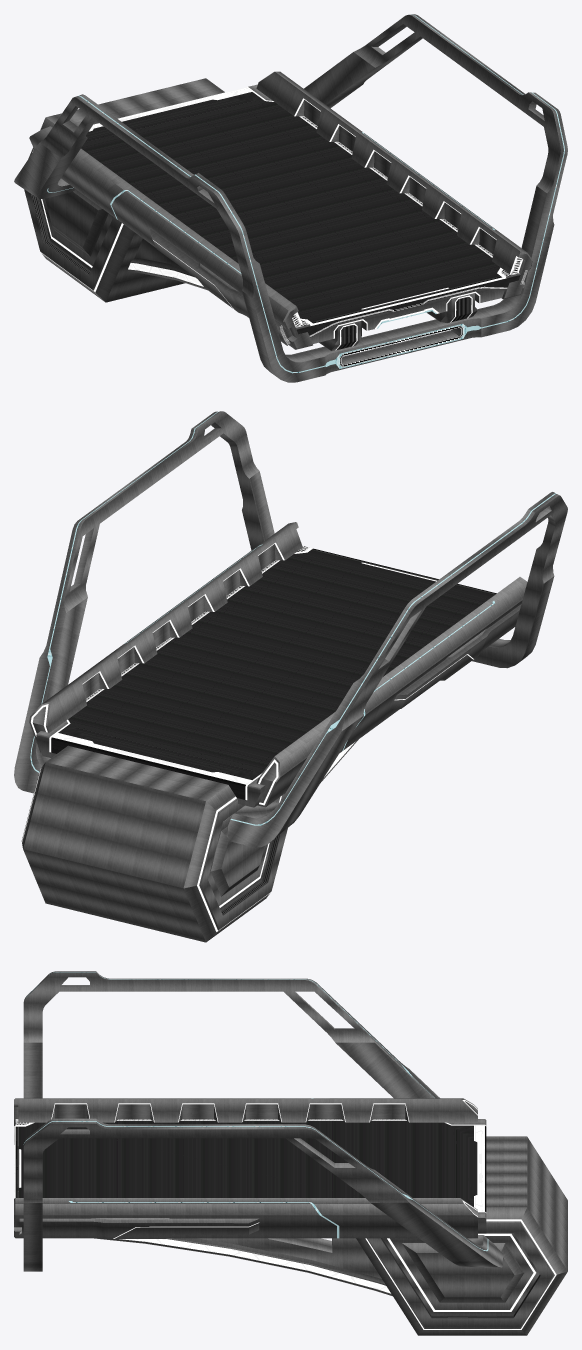
The model's file is propBridge.glb.
The picture shows the model from 3 angles, top to bottom: view 1: azimuth 30°, elevation 25°; view 2: azimuth 150°, elevation 25°; view 3: azimuth 270°, elevation 25°; orthographic projection. The views are drawn at different scales.
Parts seen in each view (by area): view 1: PF_Road_Bridge_Moveable.001_M_Hexagon_Ground_01_0, propBridge, PF_Road_Bridge_Moveable.001_M_Base_Grey.020_0, PF_Road_Bridge_Moveable.001_M_TrimSheet_Generic_V1.022_0, PF_Road_Bridge_Moveable.001_M_Emissive_Engineering.017_0; view 2: propBridge, PF_Road_Bridge_Moveable.001_M_Hexagon_Ground_01_0, PF_Road_Bridge_Moveable.001_M_Base_Grey.020_0, PF_Road_Bridge_Moveable.001_M_TrimSheet_Generic_V1.022_0, PF_Road_Bridge_Moveable.001_M_Emissive_Engineering.017_0; view 3: propBridge, PF_Road_Bridge_Moveable.001_M_Hexagon_Ground_01_0, PF_Road_Bridge_Moveable.001_M_Base_Grey.020_0, PF_Road_Bridge_Moveable.001_M_TrimSheet_Generic_V1.022_0, PF_Road_Bridge_Moveable.001_M_Emissive_Engineering.017_0.
Boxes of the visible parts, x1,y1,x2,y2 form: PF_Road_Bridge_Moveable.001_M_Hexagon_Ground_01_0: (81, 92, 520, 335); propBridge: (14, 14, 567, 382); PF_Road_Bridge_Moveable.001_M_Base_Grey.020_0: (24, 71, 531, 351); PF_Road_Bridge_Moveable.001_M_TrimSheet_Generic_V1.022_0: (31, 87, 527, 367); PF_Road_Bridge_Moveable.001_M_Emissive_Engineering.017_0: (47, 14, 564, 373); propBridge: (14, 411, 567, 942); PF_Road_Bridge_Moveable.001_M_Hexagon_Ground_01_0: (49, 550, 494, 800); PF_Road_Bridge_Moveable.001_M_Base_Grey.020_0: (21, 522, 522, 930); PF_Road_Bridge_Moveable.001_M_TrimSheet_Generic_V1.022_0: (22, 542, 496, 931); PF_Road_Bridge_Moveable.001_M_Emissive_Engineering.017_0: (30, 411, 556, 825); propBridge: (14, 971, 567, 1335); PF_Road_Bridge_Moveable.001_M_Hexagon_Ground_01_0: (19, 1121, 477, 1206); PF_Road_Bridge_Moveable.001_M_Base_Grey.020_0: (14, 1098, 554, 1328); PF_Road_Bridge_Moveable.001_M_TrimSheet_Generic_V1.022_0: (14, 1099, 556, 1329); PF_Road_Bridge_Moveable.001_M_Emissive_Engineering.017_0: (23, 972, 488, 1251).
Size of the model in its own units: 13.74 by 10.7 by 21.12.
5 materials, 5 textured.
